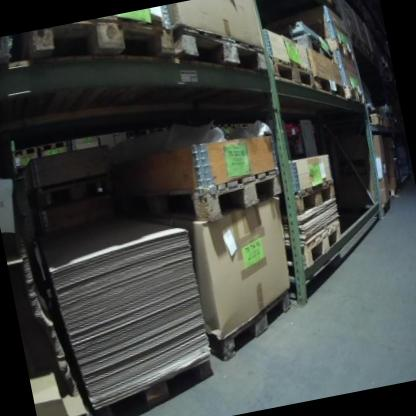pallet: (17, 5, 177, 87), (115, 162, 286, 237), (171, 8, 269, 89), (87, 357, 220, 416), (204, 287, 302, 365), (32, 170, 115, 212), (297, 218, 347, 268), (269, 48, 317, 96), (290, 177, 338, 217), (312, 69, 346, 103), (324, 31, 356, 65), (343, 82, 366, 107), (368, 110, 386, 128)
